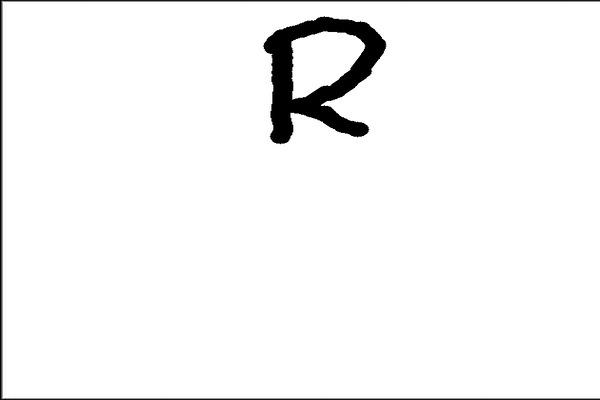R: (257, 4, 386, 149)
